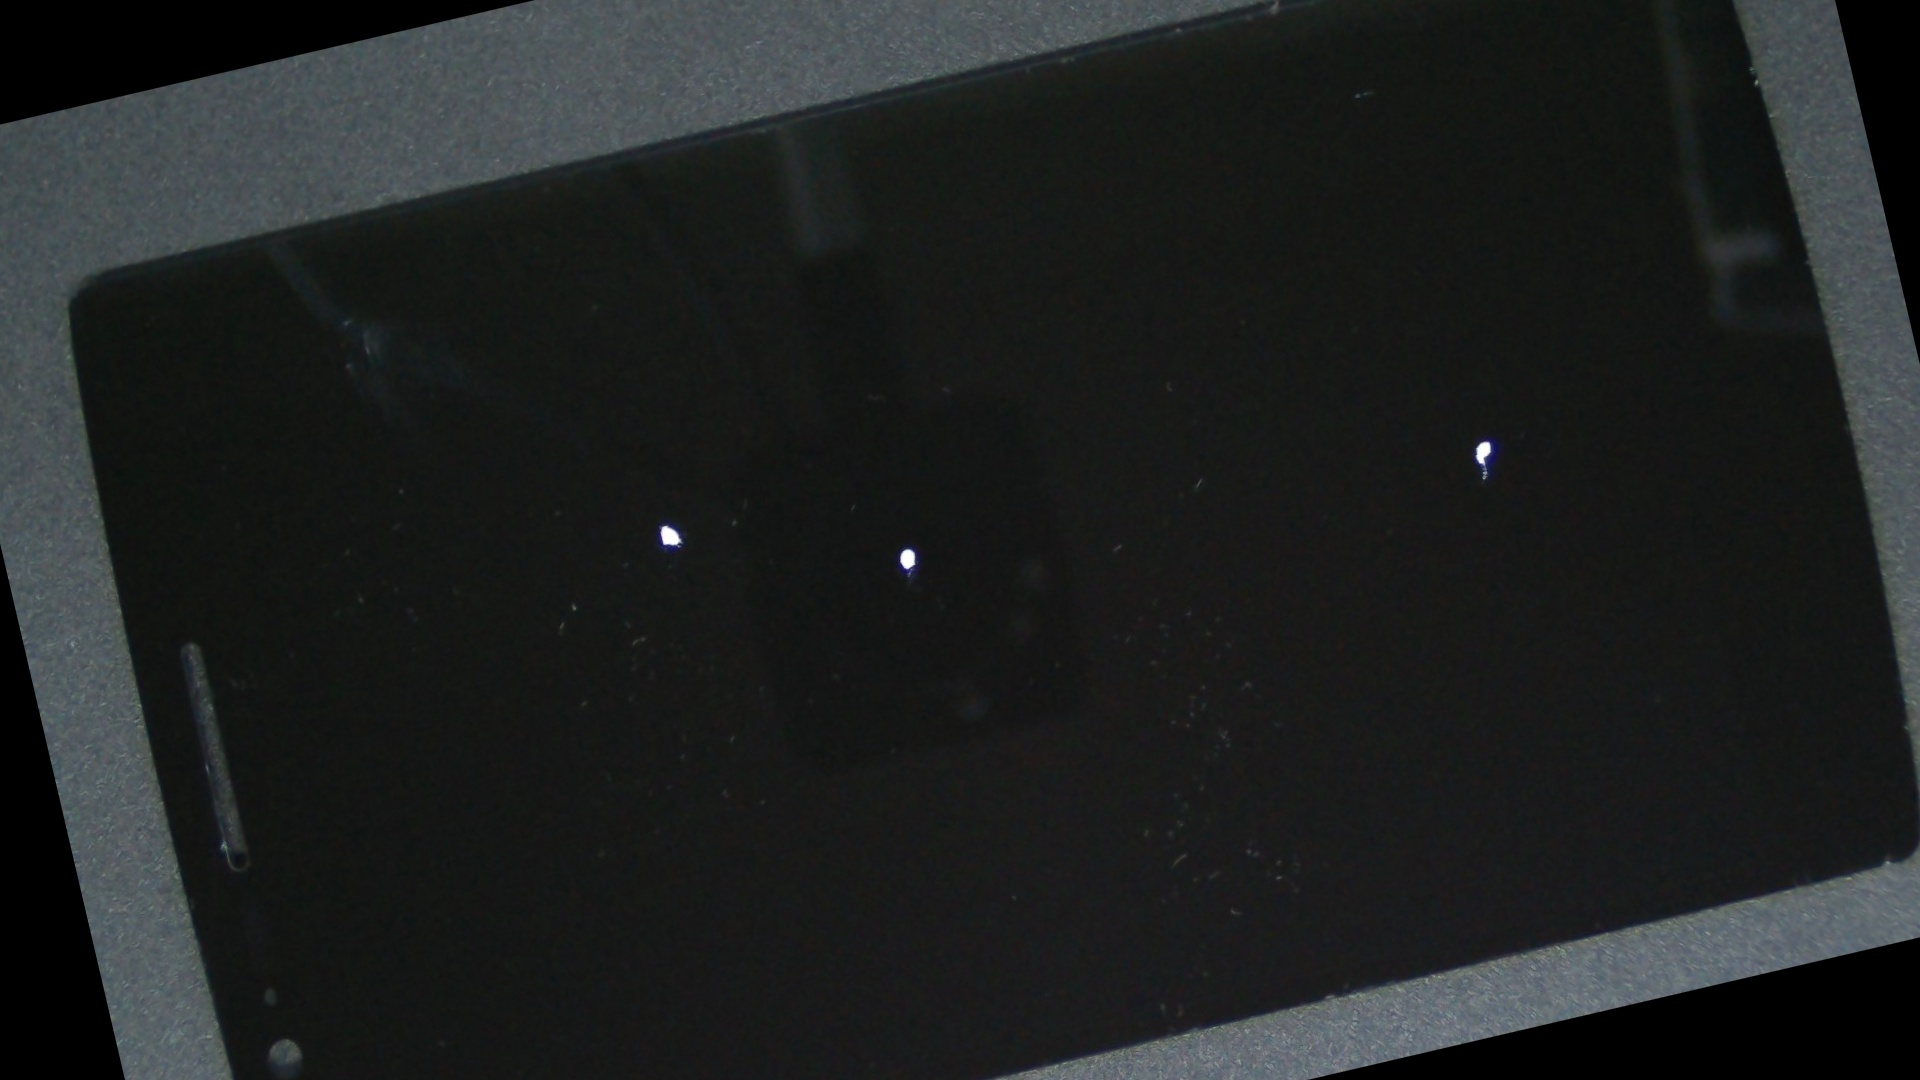oil: (695, 25, 1920, 918), (404, 149, 1395, 951), (284, 189, 1036, 861)
